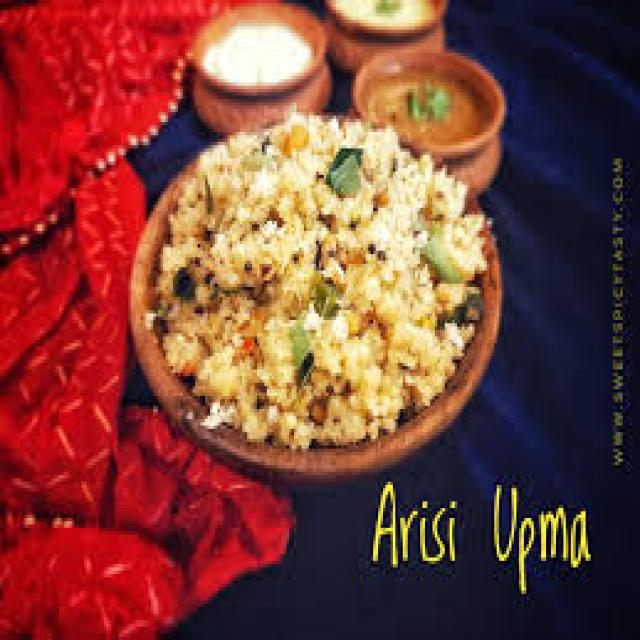UPMA: (151, 112, 487, 445)
